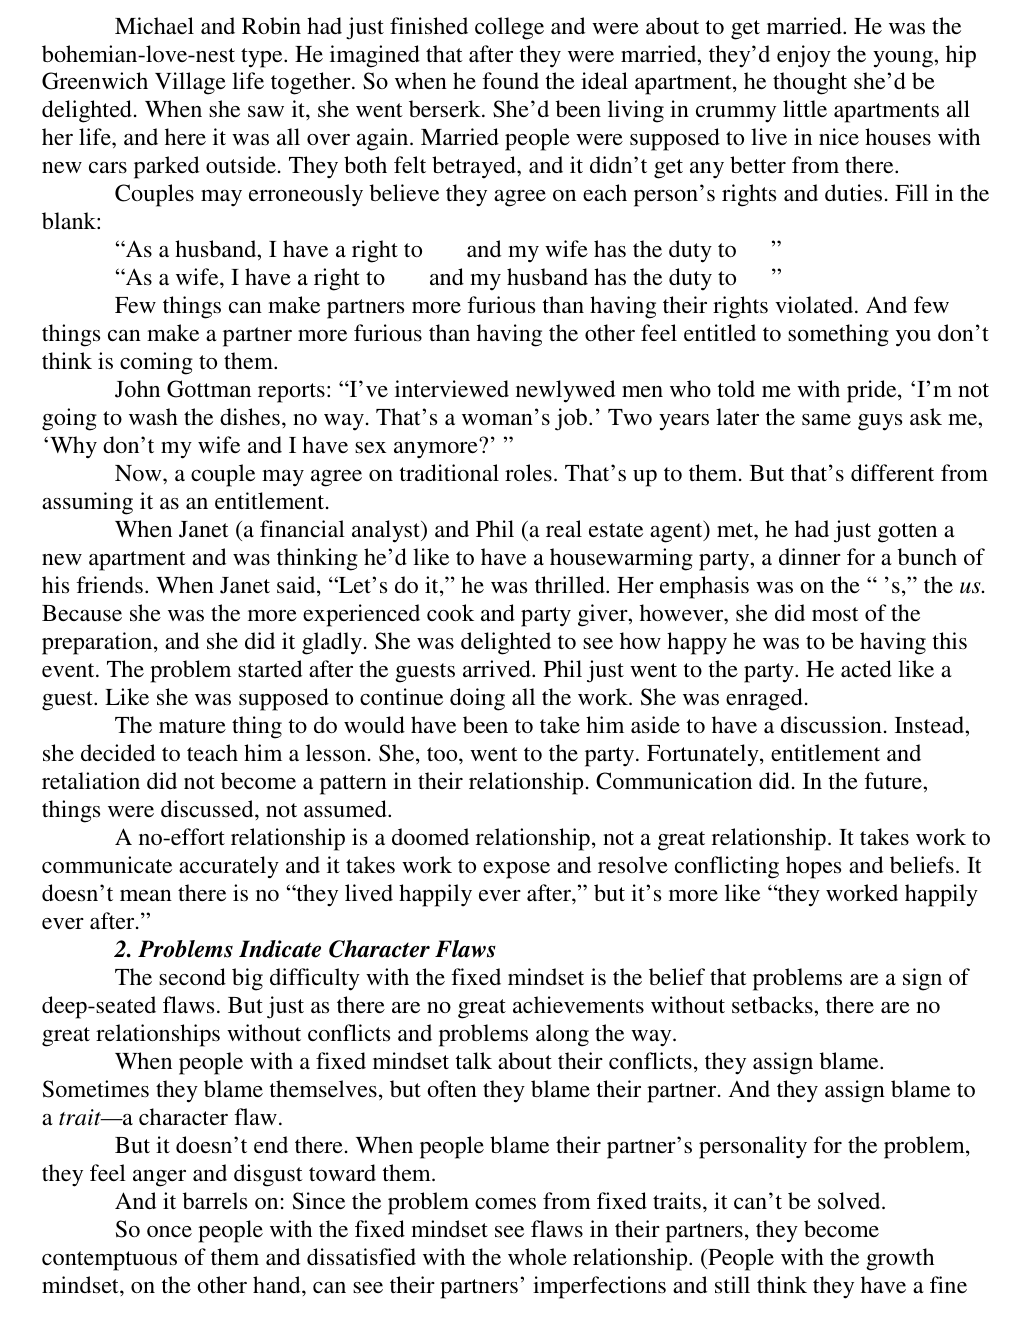latin: (37, 936, 984, 1187), (30, 173, 995, 376), (35, 518, 995, 710), (38, 14, 984, 175), (29, 376, 999, 518), (34, 710, 980, 827), (31, 1187, 971, 1304), (40, 828, 995, 936)
